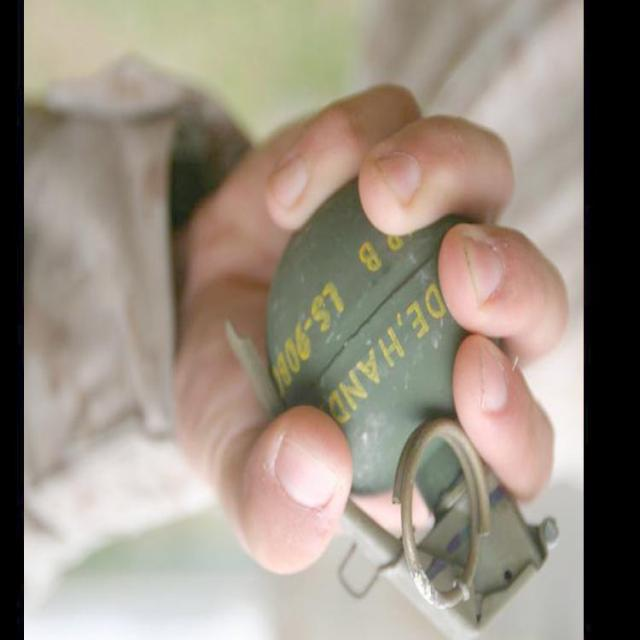grenade: (226, 184, 562, 640)
